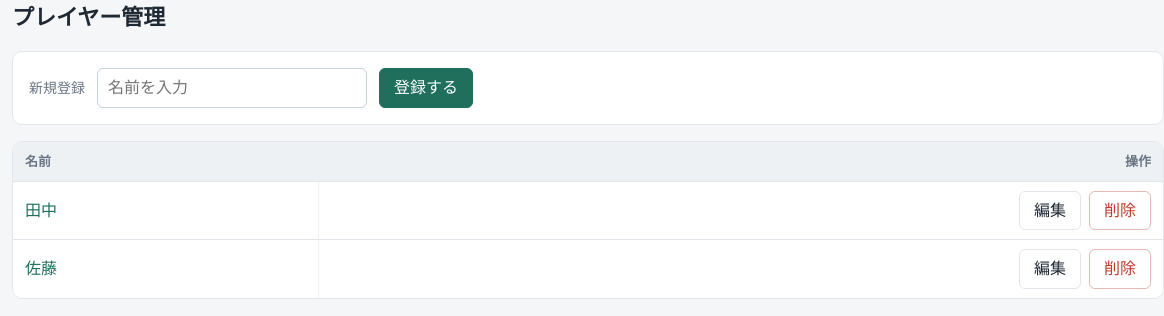
Test case: 新規登録 › 名前を入力して登録すると、API を呼び、成功メッセージを出して、一覧を取得し直す
Expected: the link "田中" is shown, [25,200,57,220]
Type "鈴木" into the field labelled "新規登録".
click(232, 88); type("鈴木")  # box [97,68,367,108]
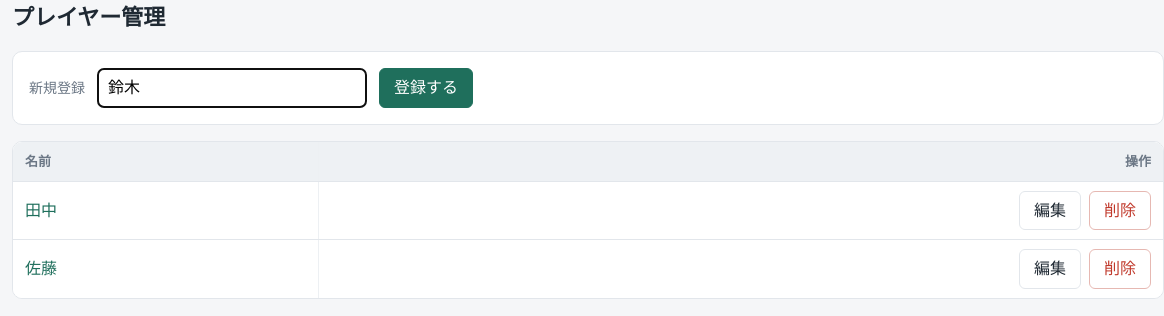
Click the button "登録する".
click(426, 88)  # box [379,68,473,108]
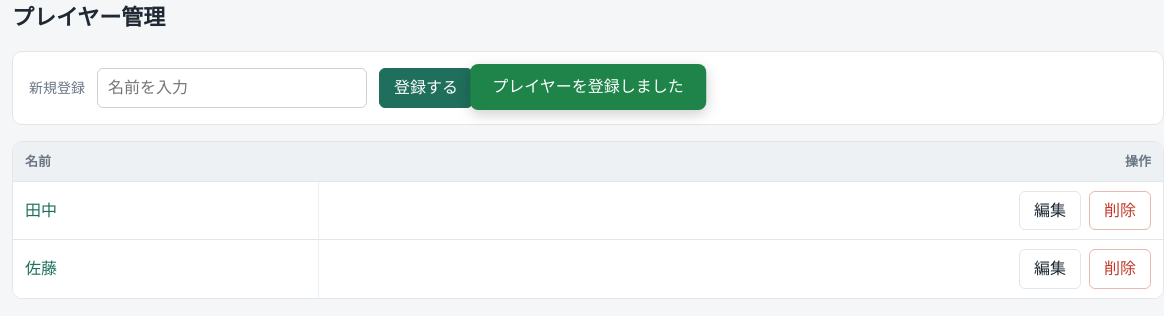
Expected: the text "プレイヤーを登録しました" is shown, [470,64,706,110]
Expected: the field labelled "新規登録" is empty, [97,68,367,108]
